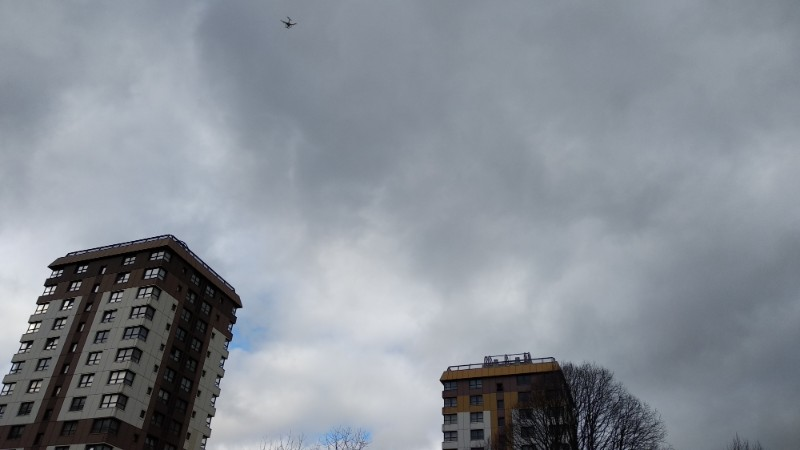drone: (281, 16, 297, 28)
